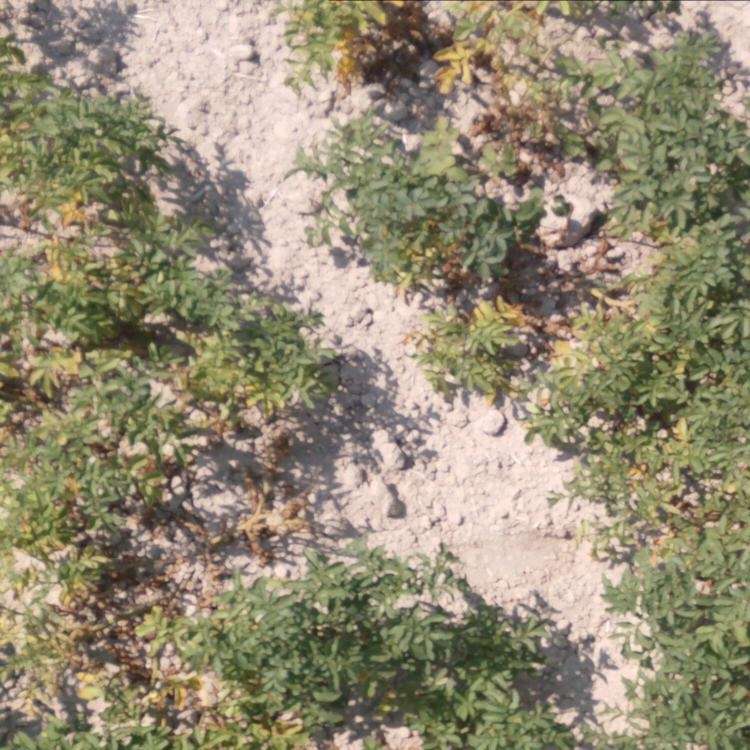healthy: (413, 599, 574, 750), (225, 567, 379, 690), (647, 617, 750, 737)
stressed: (335, 123, 742, 295), (1, 437, 199, 749), (1, 47, 187, 303), (312, 1, 704, 117), (429, 294, 747, 436), (1, 302, 305, 429), (593, 440, 750, 600), (195, 702, 292, 746), (236, 497, 291, 555)
